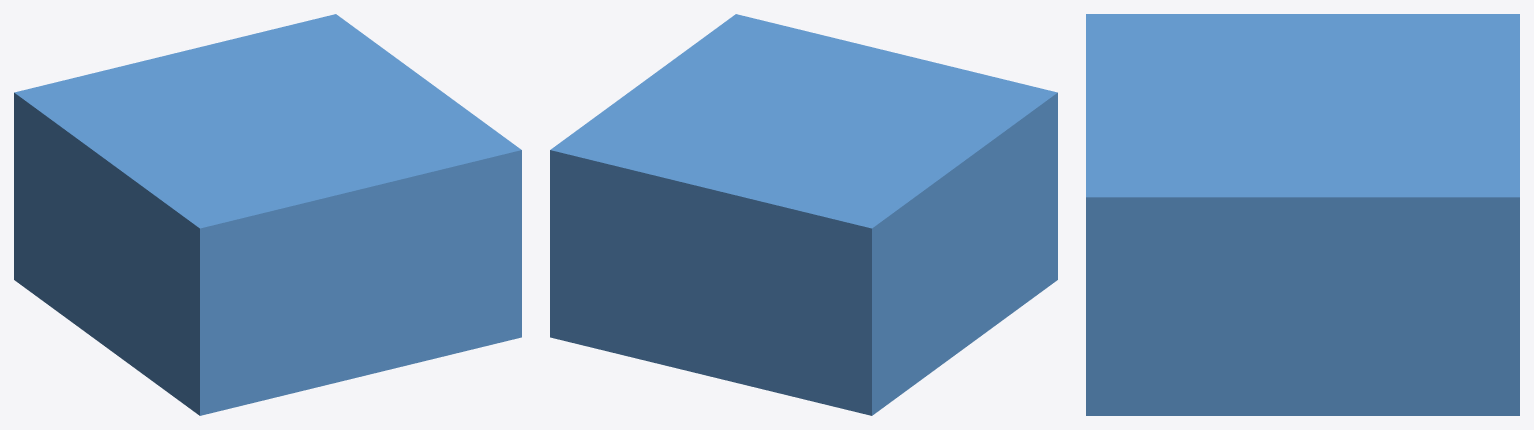
The model's file is UnbrokenGlassCase.fbx.
The picture shows the model from 3 angles, left to right: view 1: azimuth 30°, elevation 25°; view 2: azimuth 150°, elevation 25°; view 3: azimuth 270°, elevation 25°; orthographic projection. The views are drawn at different scales.
Parts seen in each view (by area): view 1: U-FruitBase.001; view 2: U-FruitBase.001; view 3: U-FruitBase.001.
Part boxes in pixels (bbox=[...]): U-FruitBase.001: bbox=[14, 14, 521, 415]; U-FruitBase.001: bbox=[550, 14, 1057, 415]; U-FruitBase.001: bbox=[1086, 14, 1519, 415].
Size of the model in its own units: 62.65 by 34.86 by 62.65.
